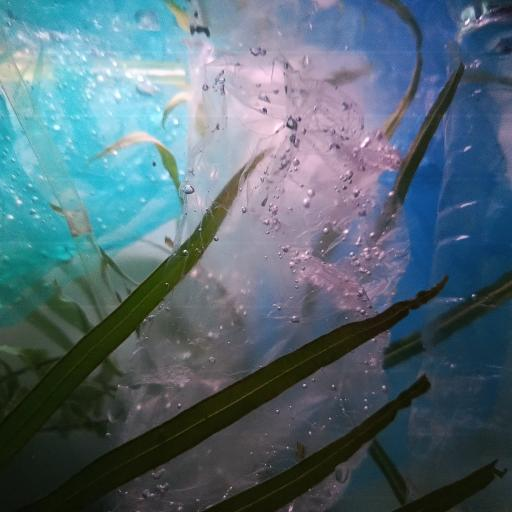plastic_bag: (100, 0, 403, 512), (248, 0, 512, 445), (2, 0, 207, 321)
plastic_bottle: (419, 0, 512, 512)
